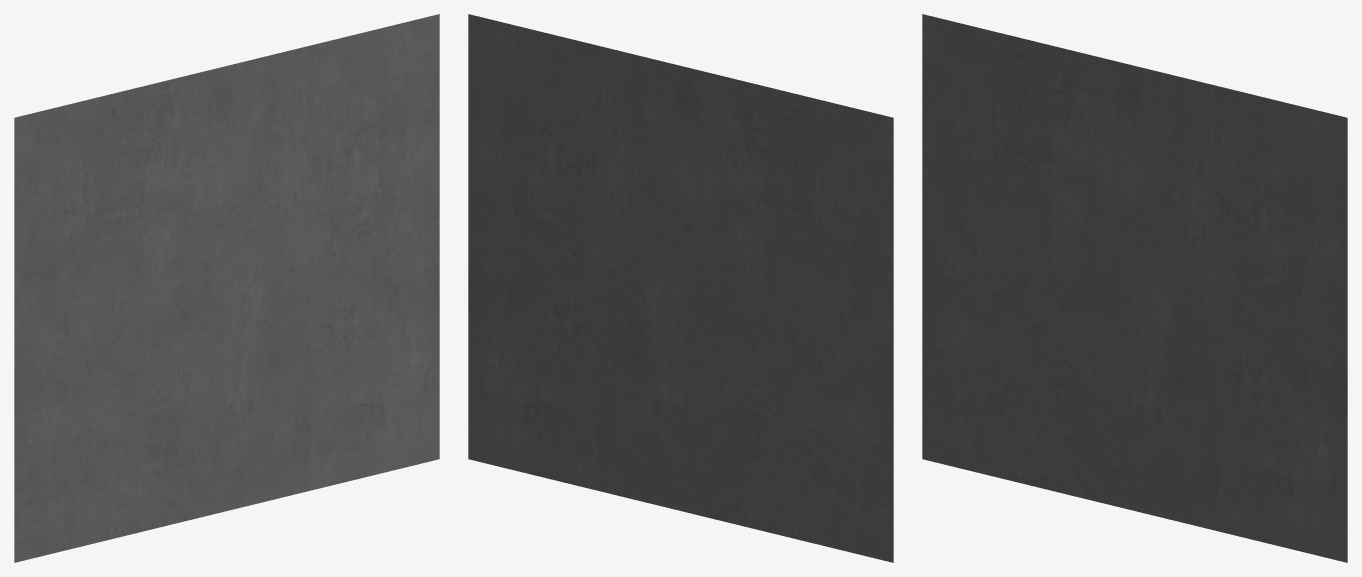
Rendered from reference-building-closure.glb.
3 views of the same model, side by side, from view 1: azimuth 30°, elevation 25°; view 2: azimuth 150°, elevation 25°; view 3: azimuth 330°, elevation 25° (orthographic).
Visible parts, largest first — view 1: CC0_facade_closure_panel; view 2: CC0_facade_closure_panel; view 3: CC0_facade_closure_panel.
Part boxes in pixels (x1,y1,x2,y2): CC0_facade_closure_panel: (14,14,439,562); CC0_facade_closure_panel: (468,14,893,562); CC0_facade_closure_panel: (922,14,1347,562).
Size of the model in its own units: 3 by 3 by 0.
Materials: 1 (1 with a texture image).
